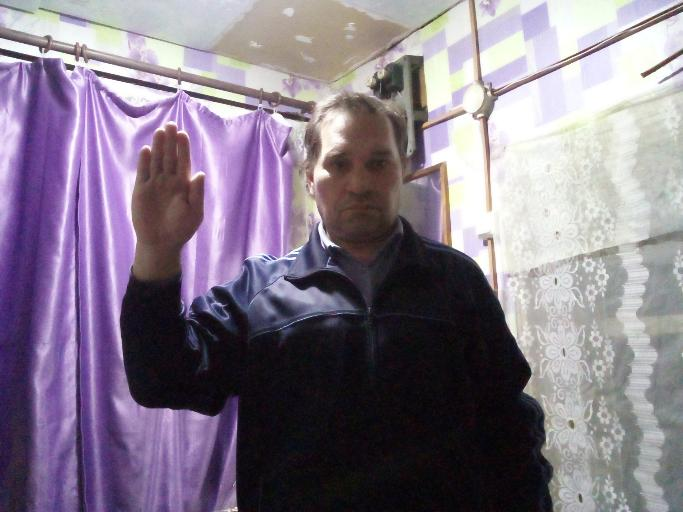stop: (128, 118, 207, 254)
